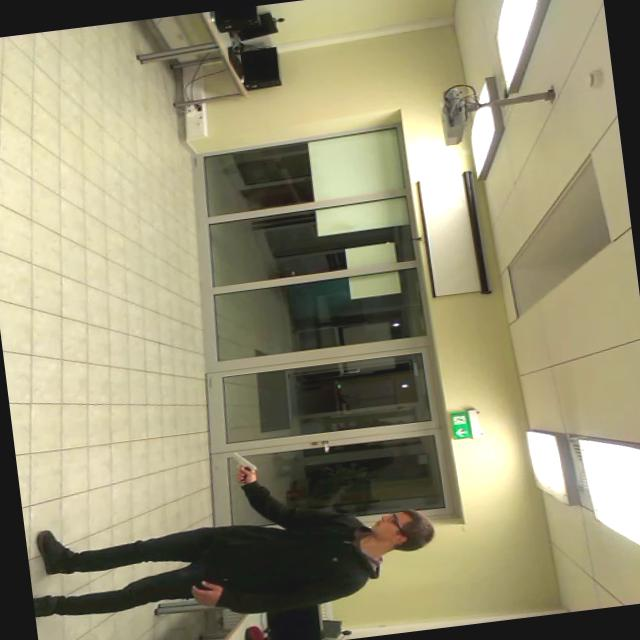handgun: (220, 442, 266, 486)
